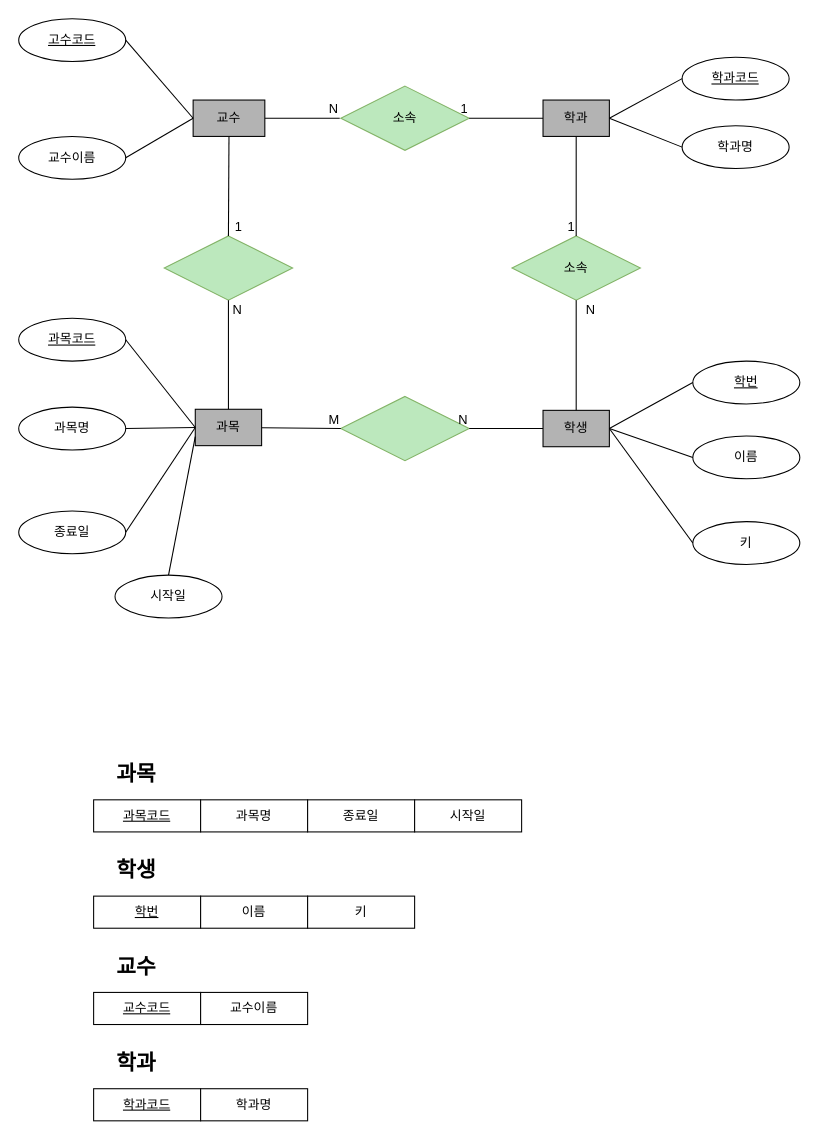
Some shapes in this 819 by 1140 pixel diagram are drawn without their labels. The shapes that lost their labels are listed below. From the top down, each one's centre as x and y in pixels, then its label:
At point 228,267: "강의".
At point 404,428: "수강".
